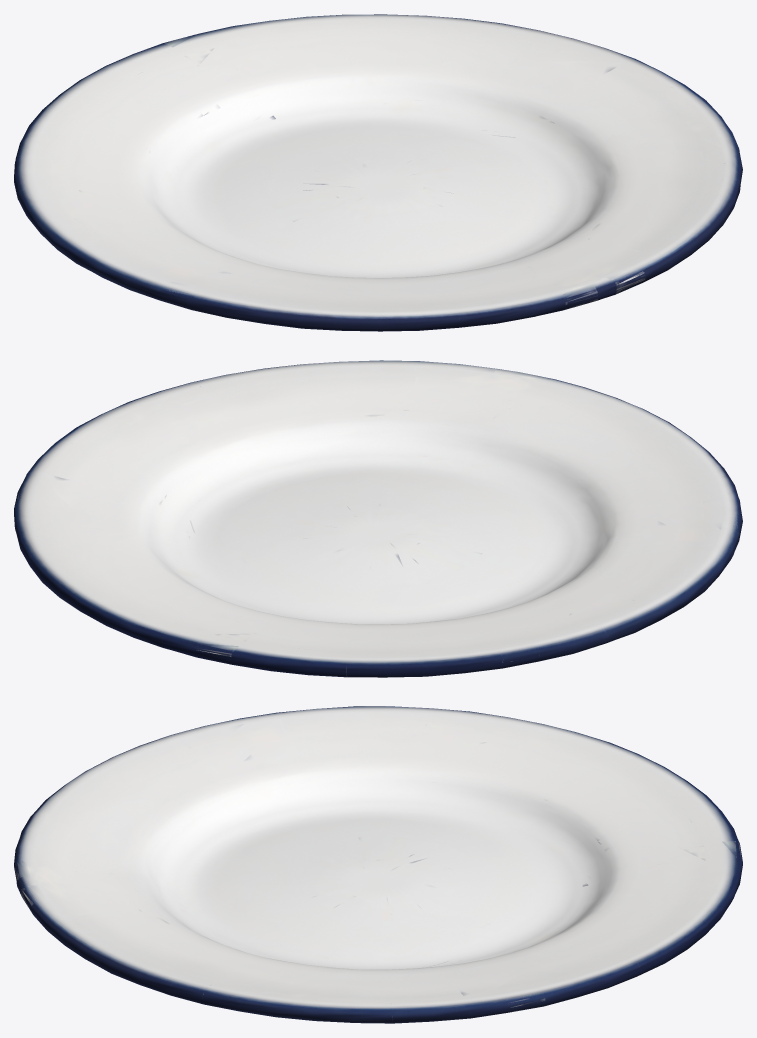
Rendered from Amanda_Blue_Banded_dinnerplate__0308225744_texture.glb.
3 views of the same model, one above another, from view 1: azimuth 30°, elevation 25°; view 2: azimuth 150°, elevation 25°; view 3: azimuth 270°, elevation 25° (orthographic).
Visible parts, largest first — view 1: Mesh_0; view 2: Mesh_0; view 3: Mesh_0.
Boxes of the visible parts, x1=… form: Mesh_0: x1=14, y1=14, x2=742, y2=331; Mesh_0: x1=14, y1=360, x2=742, y2=677; Mesh_0: x1=14, y1=706, x2=742, y2=1023.
Bounding box in the file's own units: 0.3172 × 0.0254 × 0.3172.
1 material, 1 textured.
